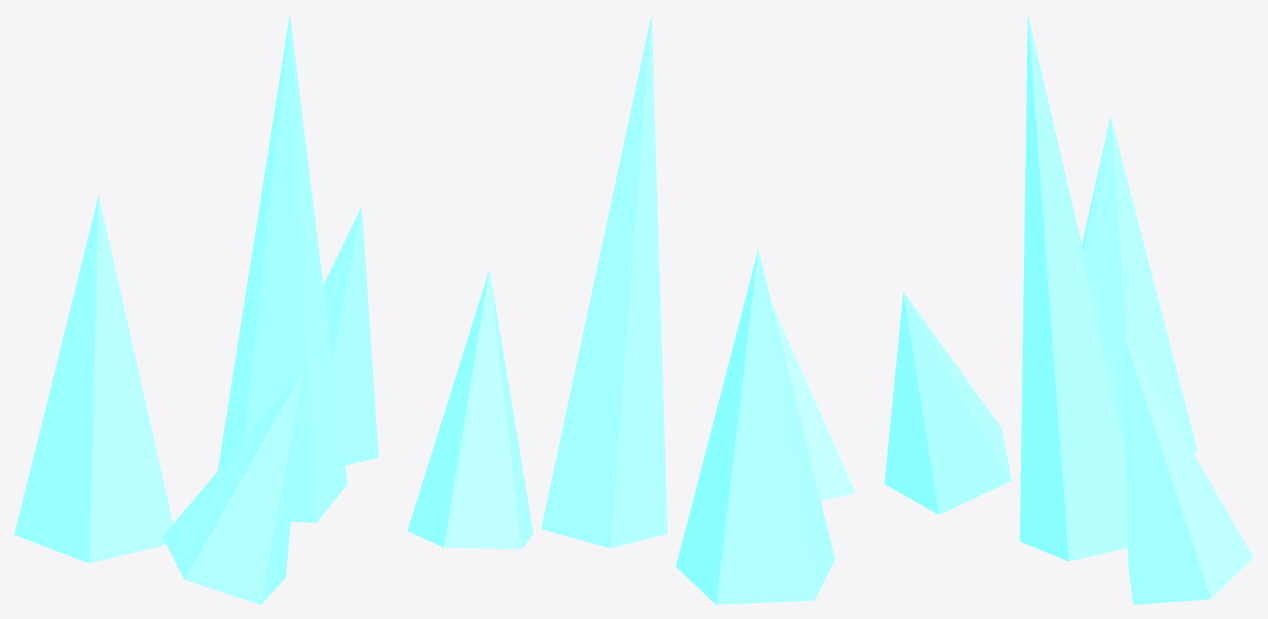
The model's file is crystals.glb.
The picture shows the model from 3 angles, left to right: view 1: azimuth 30°, elevation 25°; view 2: azimuth 150°, elevation 25°; view 3: azimuth 270°, elevation 25°; orthographic projection. The views are drawn at different scales.
Visible parts, largest first — view 1: Lumen shard 0, Lumen shard 1, Lumen shard 3, Lumen shard 2; view 2: Lumen shard 1, Lumen shard 0, Lumen shard 2, Lumen shard 3; view 3: Lumen shard 1, Lumen shard 2, Lumen shard 3, Lumen shard 0.
Boxes of the visible parts, <box> form: Lumen shard 0: <box>14,195,173,563</box>; Lumen shard 1: <box>217,15,347,522</box>; Lumen shard 3: <box>162,369,304,604</box>; Lumen shard 2: <box>323,207,378,465</box>; Lumen shard 1: <box>541,15,667,548</box>; Lumen shard 0: <box>676,250,835,604</box>; Lumen shard 2: <box>407,269,533,549</box>; Lumen shard 3: <box>772,304,855,501</box>; Lumen shard 1: <box>1019,15,1127,561</box>; Lumen shard 2: <box>1123,332,1253,604</box>; Lumen shard 3: <box>884,292,1011,514</box>; Lumen shard 0: <box>1082,116,1197,453</box>.
Bounding box in the file's own units: 1.02 × 1.33 × 0.8473.
